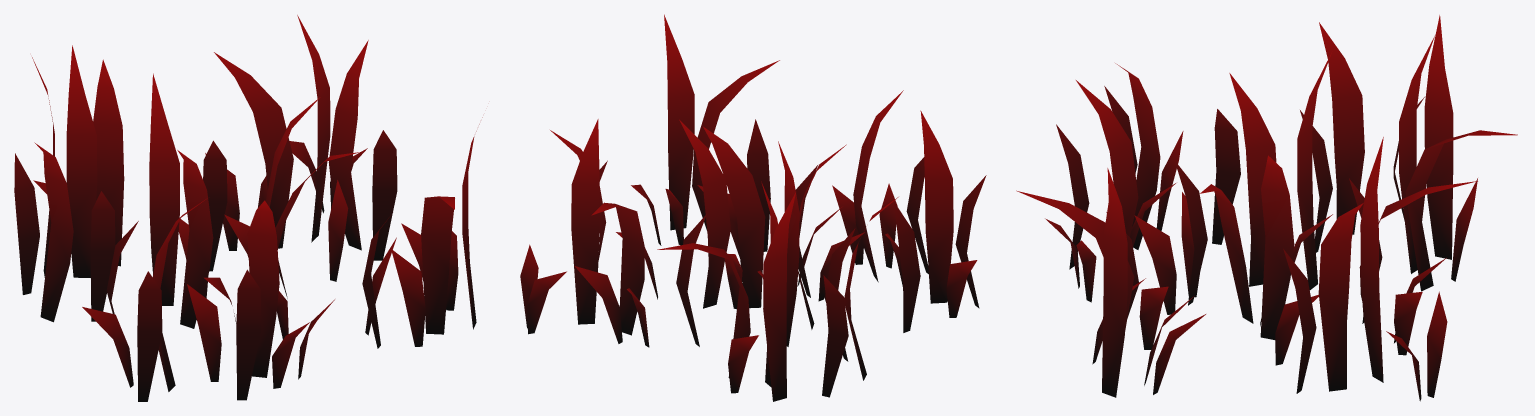
The model's file is grassLOD0.fbx.
3 views of the same model, side by side, from view 1: azimuth 30°, elevation 25°; view 2: azimuth 150°, elevation 25°; view 3: azimuth 270°, elevation 25° (orthographic). The views are drawn at different scales.
Visible parts, largest first — view 1: 平面.048; view 2: 平面.048; view 3: 平面.048.
Part boxes in pixels (bbox=[...]): 平面.048: bbox=[14, 15, 482, 401]; 平面.048: bbox=[520, 14, 986, 401]; 平面.048: bbox=[1016, 15, 1517, 401].
Size of the model in its own units: 79.64 by 44.96 by 87.19.
